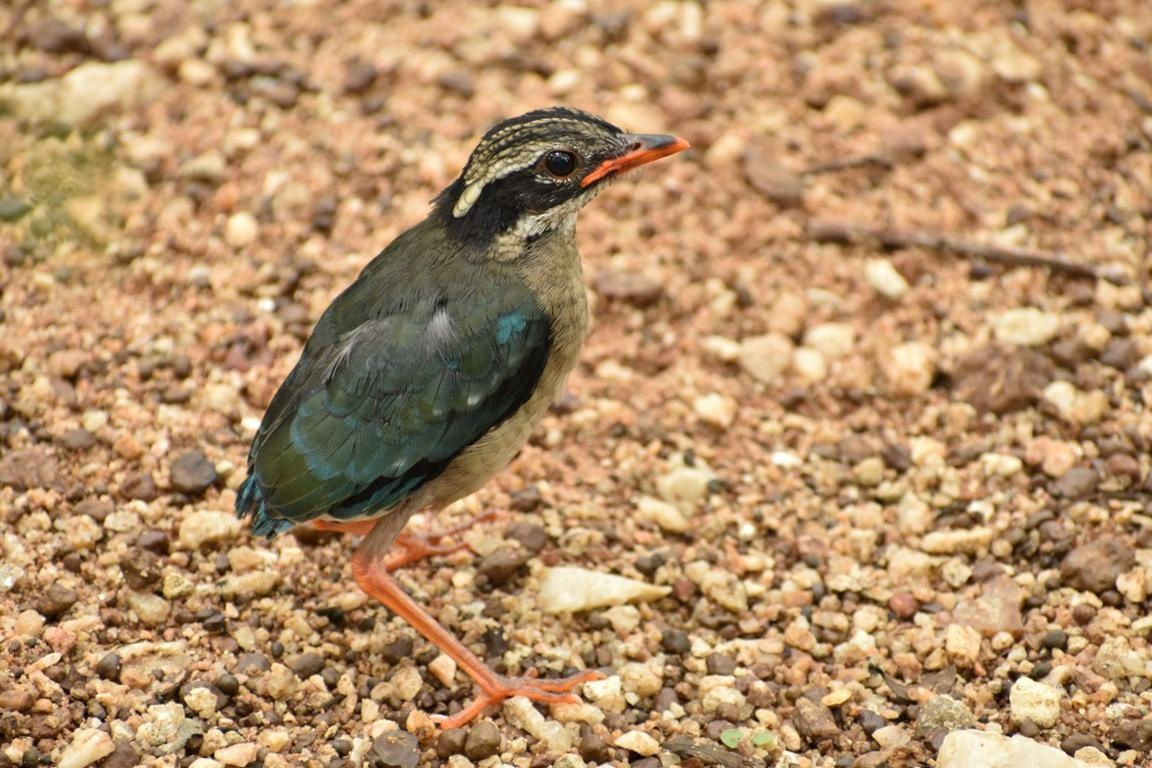pitta: (239, 93, 727, 639)
